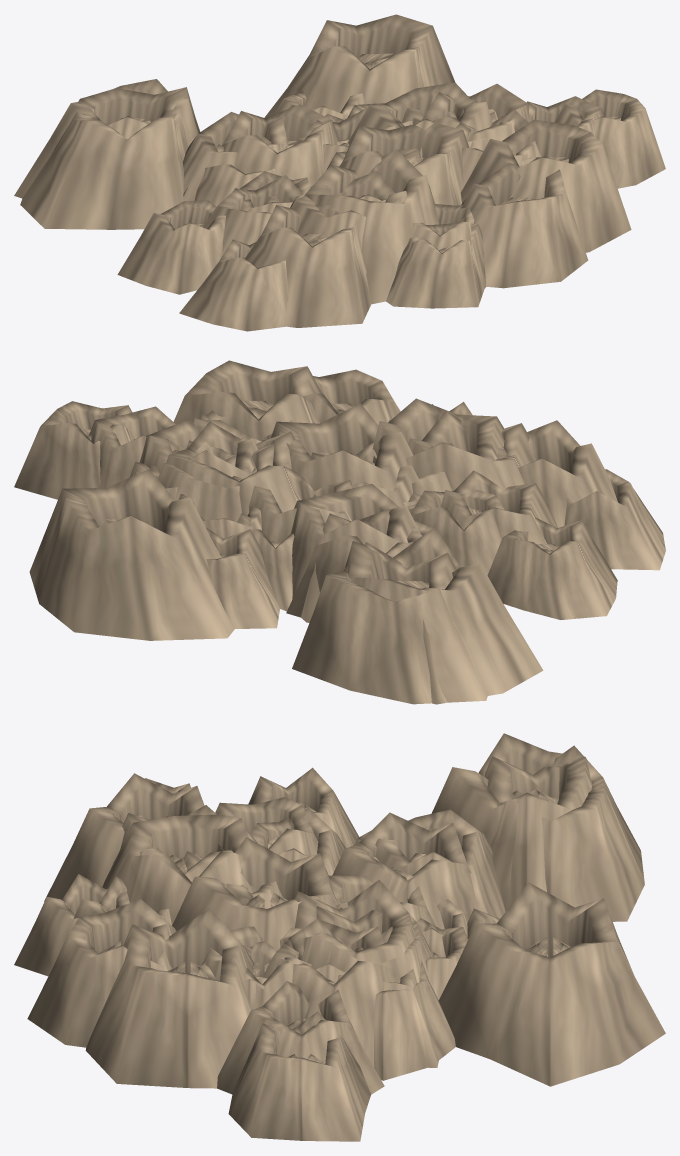
The model's file is barnacles-30.glb.
The picture shows the model from 3 angles, top to bottom: view 1: azimuth 30°, elevation 25°; view 2: azimuth 150°, elevation 25°; view 3: azimuth 270°, elevation 25°; orthographic projection. The views are drawn at different scales.
Visible parts, largest first — view 1: LOD0; view 2: LOD0; view 3: LOD0.
Part boxes in pixels (x1,y1,x2,y2): LOD0: (14, 14, 665, 331); LOD0: (14, 360, 665, 704); LOD0: (14, 733, 665, 1141).
Size of what is drawn, in the model's own units: 0.1767 by 0.0303 by 0.1491.
1 material, 1 textured.
